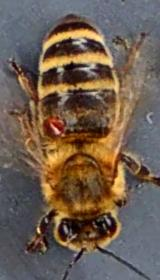varroa_mite: (36, 106, 73, 143)
